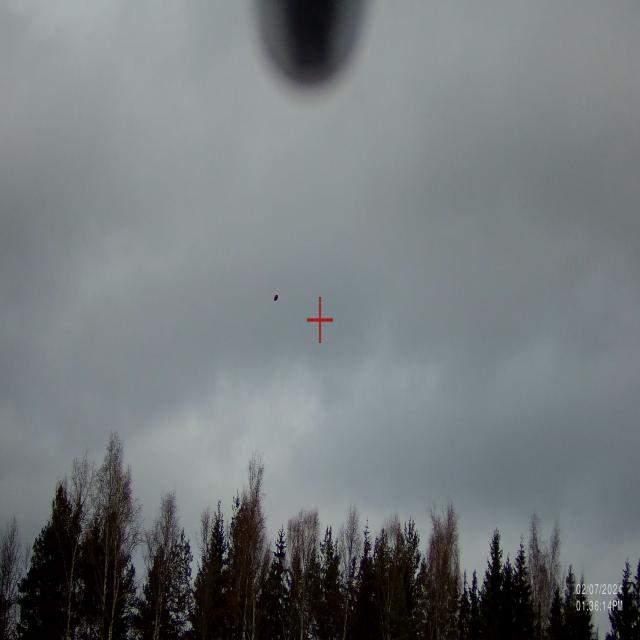entire: (270, 279, 280, 313)
